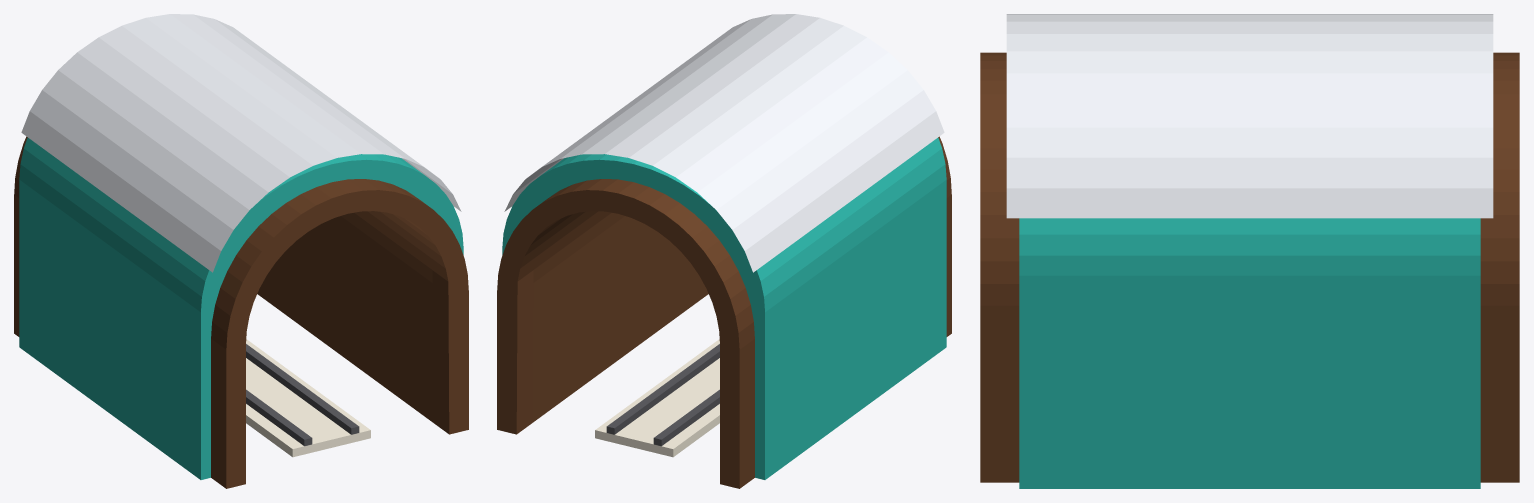
Rendered from tunnel.glb.
The picture shows the model from 3 angles, left to right: view 1: azimuth 30°, elevation 25°; view 2: azimuth 150°, elevation 25°; view 3: azimuth 270°, elevation 25°; orthographic projection. The views are drawn at different scales.
Visible parts, largest first — view 1: tunnel_dome, tunnel_snow_cap, tunnel_portal_exit, tunnel_bed, tunnel_rails, tunnel_portal_entry; view 2: tunnel_dome, tunnel_snow_cap, tunnel_portal_entry, tunnel_bed, tunnel_rails, tunnel_portal_exit; view 3: tunnel_dome, tunnel_snow_cap, tunnel_portal_entry, tunnel_portal_exit.
Part boxes in pixels (x1,y1,x2,y2): tunnel_dome: (19,137,463,479); tunnel_snow_cap: (21,14,461,272); tunnel_portal_exit: (211,179,468,488); tunnel_bed: (246,339,370,457); tunnel_rails: (246,344,359,446); tunnel_portal_entry: (14,136,27,336); tunnel_dome: (502,137,946,479); tunnel_snow_cap: (504,14,944,272); tunnel_portal_entry: (497,179,754,488); tunnel_bed: (595,339,719,457); tunnel_rails: (606,344,719,446); tunnel_portal_exit: (938,136,951,336); tunnel_dome: (1019,218,1480,488); tunnel_snow_cap: (1006,14,1493,218); tunnel_portal_entry: (1480,52,1519,482); tunnel_portal_exit: (980,52,1019,482).
Size of the model in its own units: 3.36 by 3.59 by 4.7.
